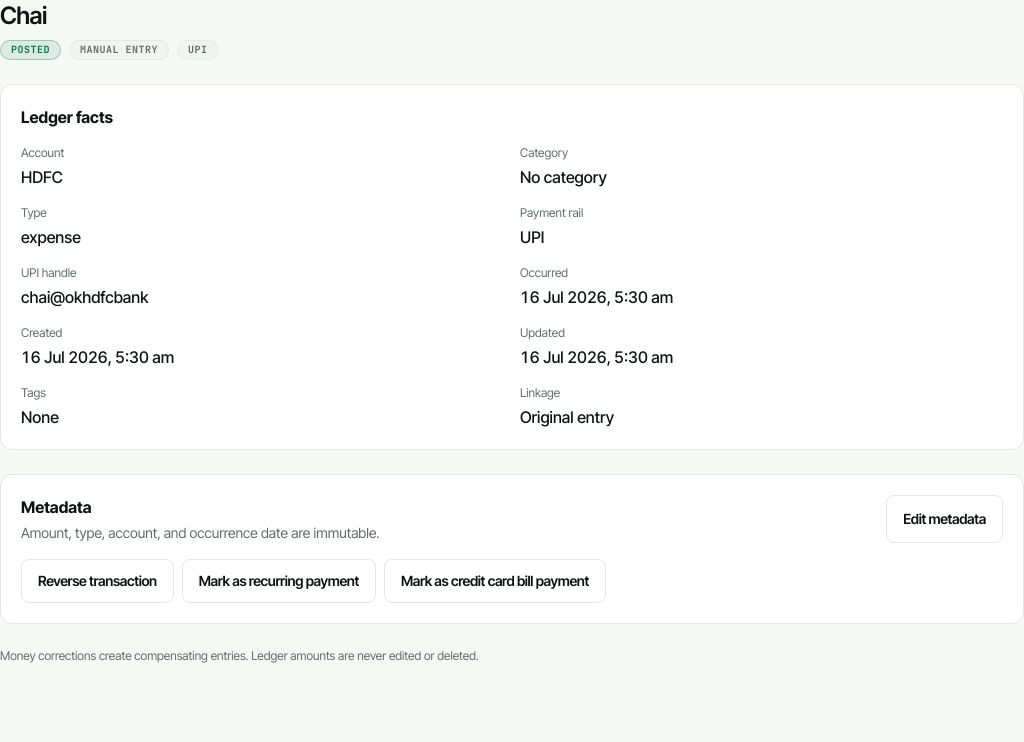
Test: TxnDetail › reports a failed metadata update inline and as a toast
The image size is (1024, 742).
Click the button "Edit metadata": (945, 519) [886,495,1003,543]
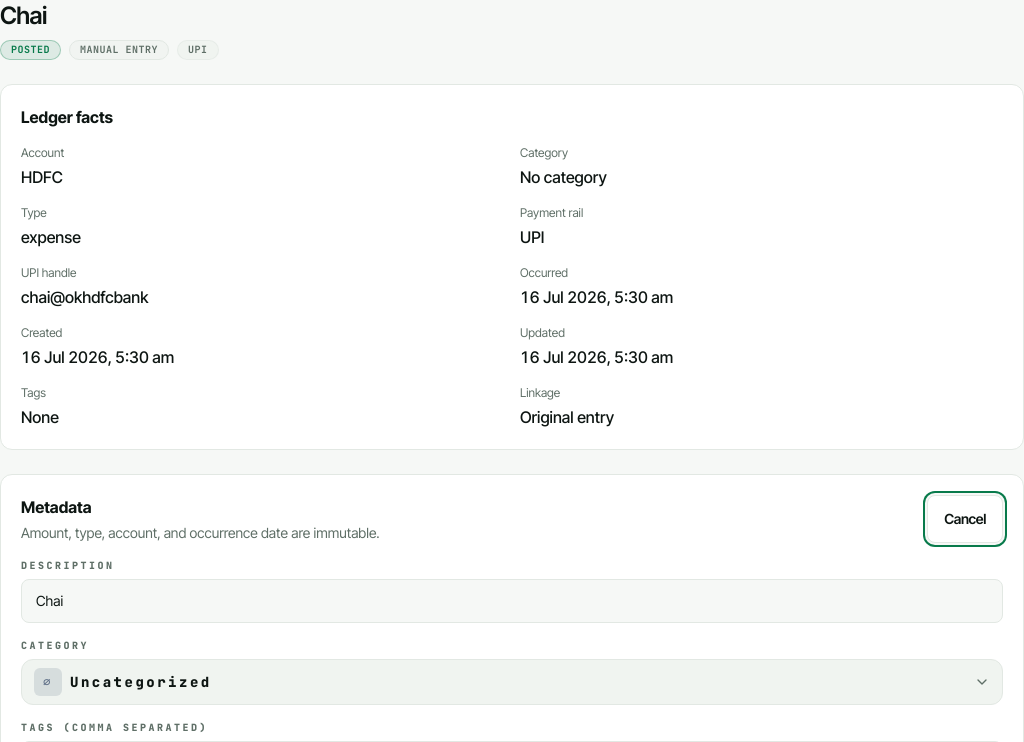
Replace the text in the field labelled "Description" with "Masala chai": (512, 601) [21,579,1003,623]
(page scrolled)
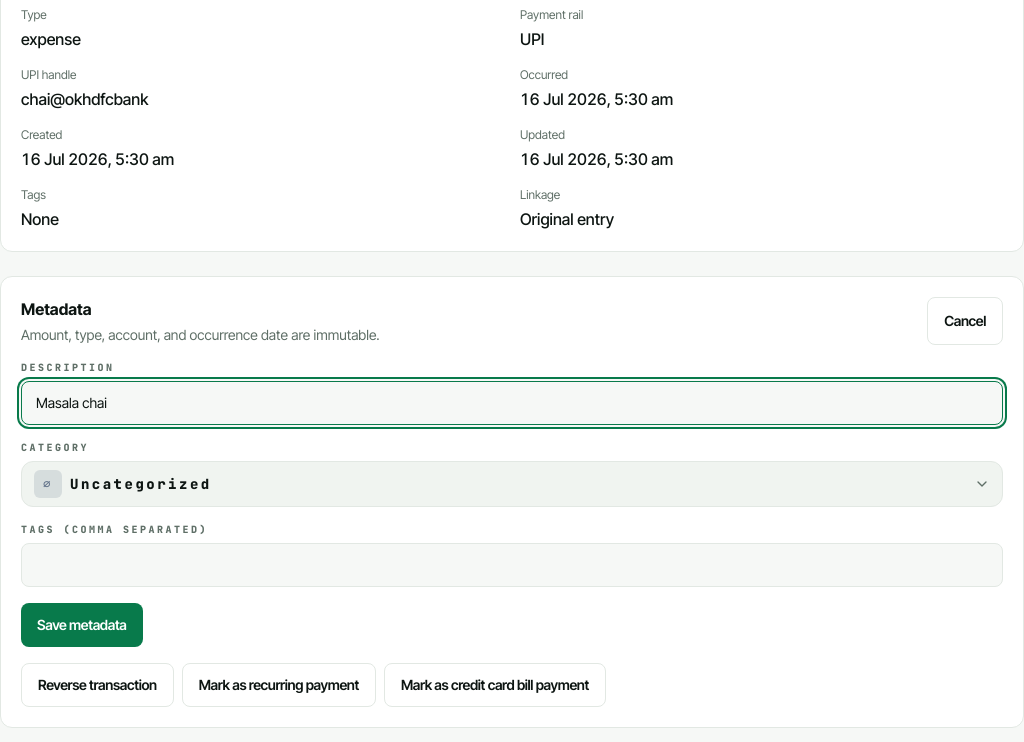
Click the button "Save metadata": (82, 625) [21,603,143,647]
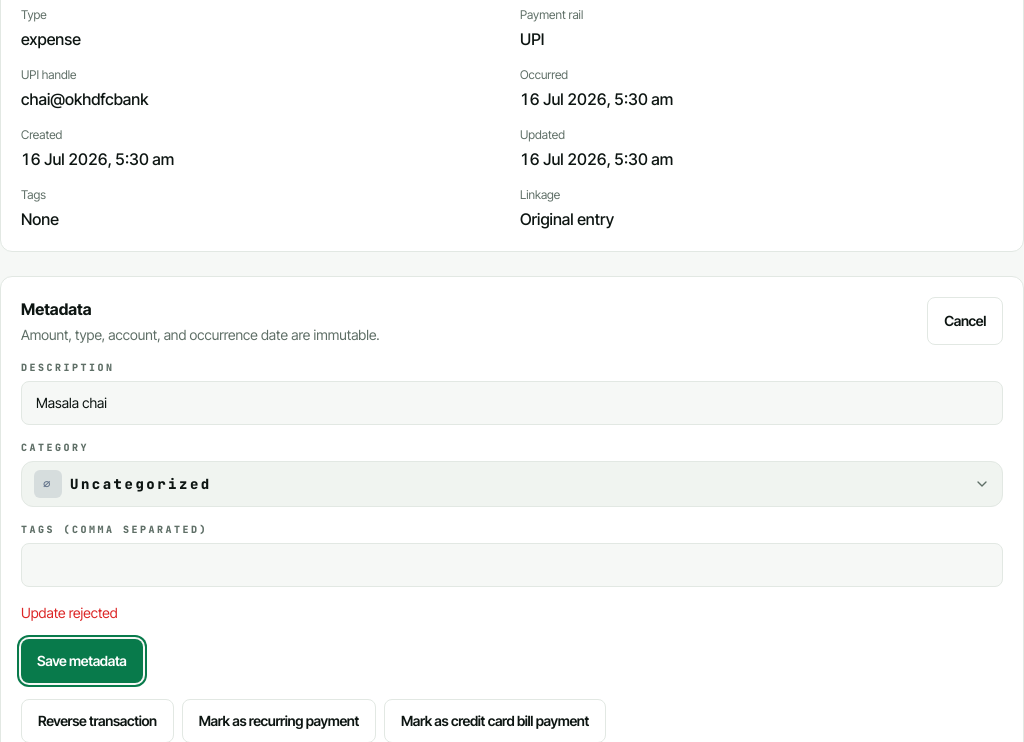
Now the message reads "Update rejected", box [21,604,118,621]
